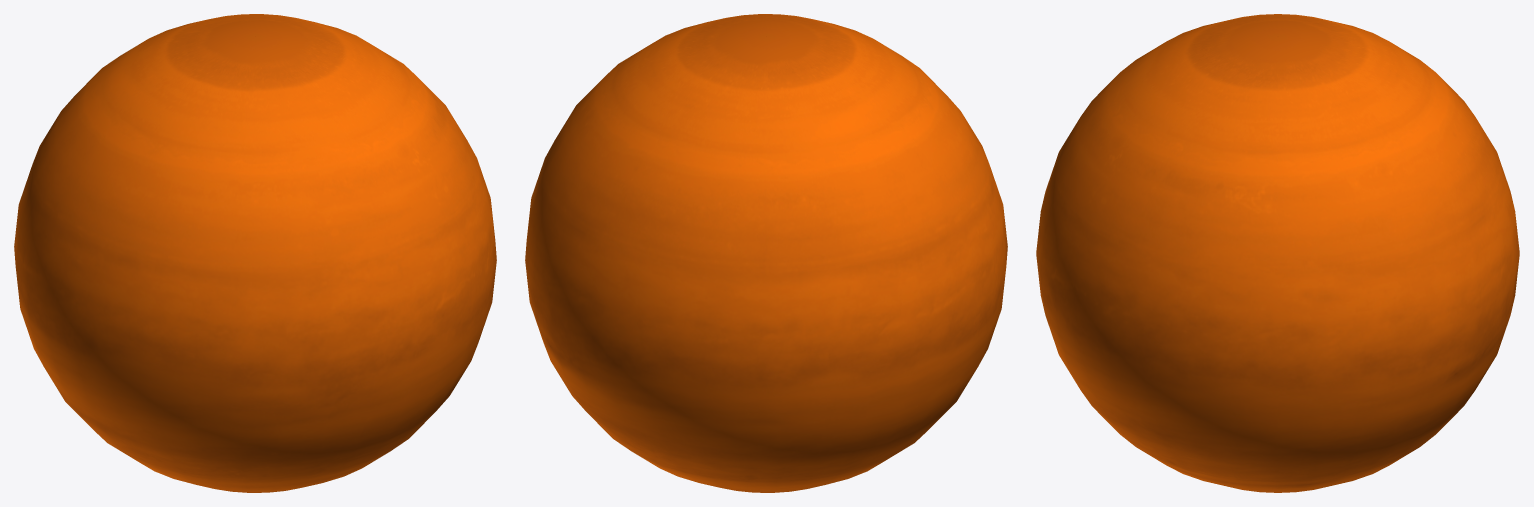
File: planet-6.glb
The picture shows the model from 3 angles, left to right: view 1: azimuth 30°, elevation 25°; view 2: azimuth 150°, elevation 25°; view 3: azimuth 270°, elevation 25°; orthographic projection.
Parts seen in each view (by area): view 1: Wasp-39 b; view 2: Wasp-39 b; view 3: Wasp-39 b.
Part boxes in pixels (x1,y1,x2,y2): Wasp-39 b: (14, 14, 496, 492); Wasp-39 b: (525, 14, 1007, 492); Wasp-39 b: (1036, 14, 1519, 492).
Bounding box in the file's own units: 1.01 × 1 × 1.01.
Materials: 1 (1 with a texture image).
